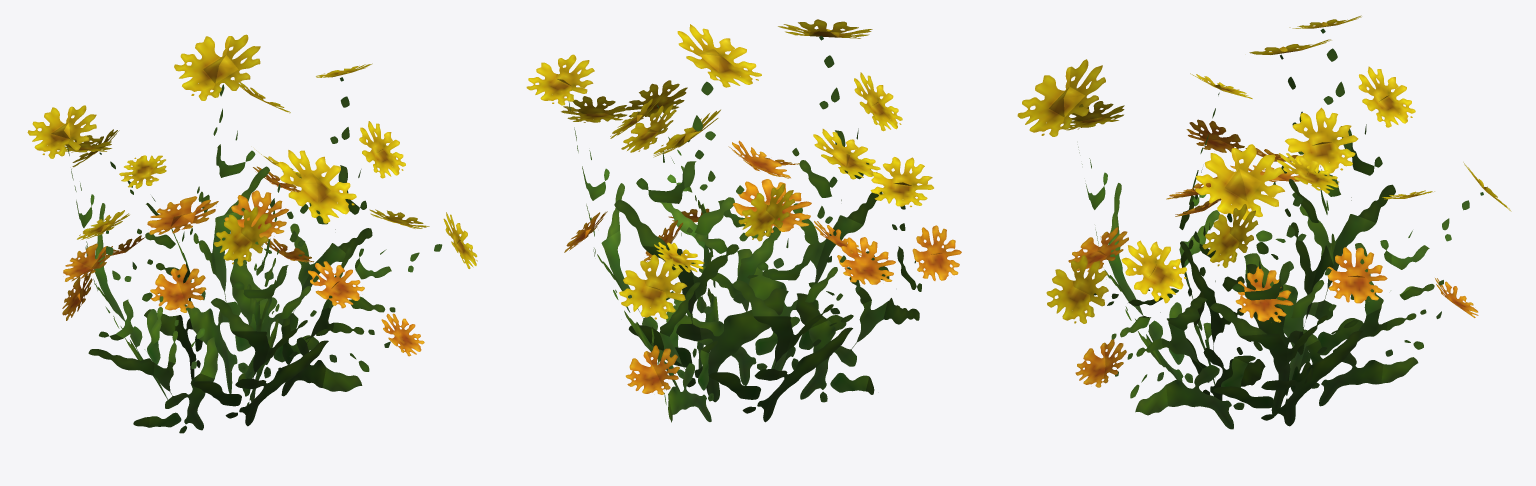
The model's file is cao04_zw.FBX.
3 renders of one model, left to right at view 1: azimuth 30°, elevation 25°; view 2: azimuth 150°, elevation 25°; view 3: azimuth 270°, elevation 25°, orthographic. The views are drawn at different scales.
Parts seen in each view (by area): view 1: cao04_zw_B; view 2: cao04_zw_B; view 3: cao04_zw_B.
Boxes of the visible parts, left/top/right/bottom form: cao04_zw_B: left=27, top=34, right=477, bottom=433; cao04_zw_B: left=526, top=19, right=961, bottom=422; cao04_zw_B: left=1017, top=15, right=1511, bottom=429.
Bounding box in the file's own units: 146 × 138 × 150.
